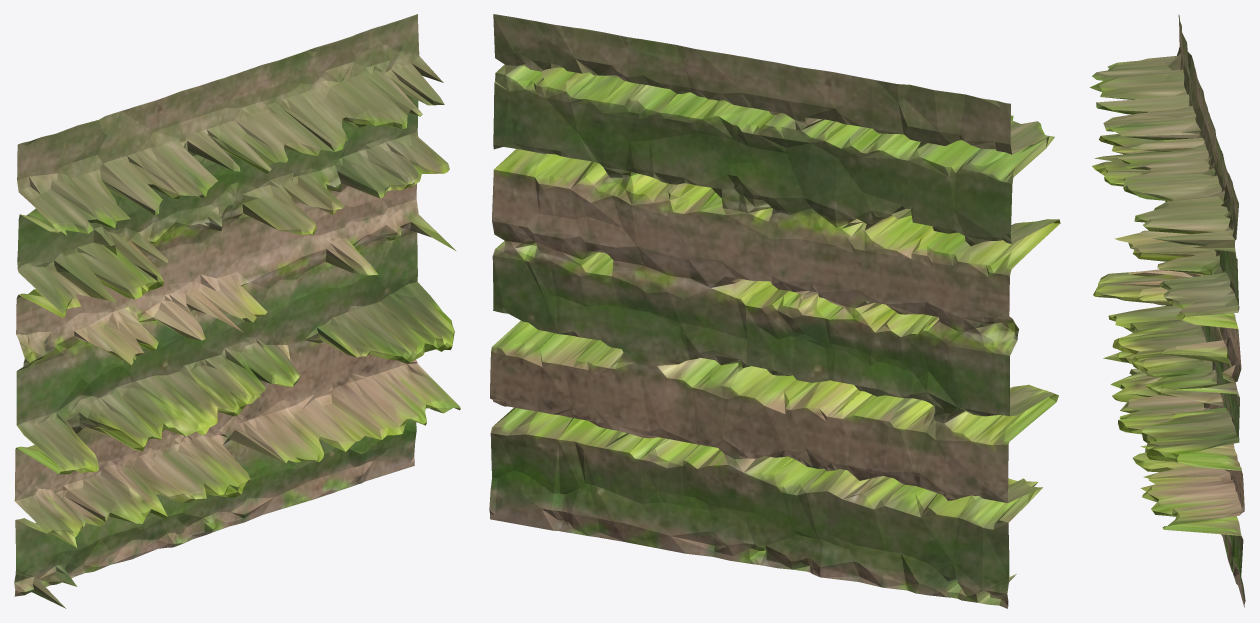
File: map_160_40.obj
3 views of the same model, side by side, from view 1: azimuth 30°, elevation 25°; view 2: azimuth 150°, elevation 25°; view 3: azimuth 270°, elevation 25° (orthographic). The views are drawn at different scales.
Parts seen in each view (by area): view 1: grp1; view 2: grp1; view 3: grp1.
Part boxes in pixels (left/top/right/bottom): grp1: left=14, top=14, right=460, bottom=608; grp1: left=489, top=14, right=1060, bottom=608; grp1: left=1090, top=14, right=1245, bottom=607.
Bounding box in the file's own units: 10 × 10 × 3.49.
Materials: 1 (1 with a texture image).
